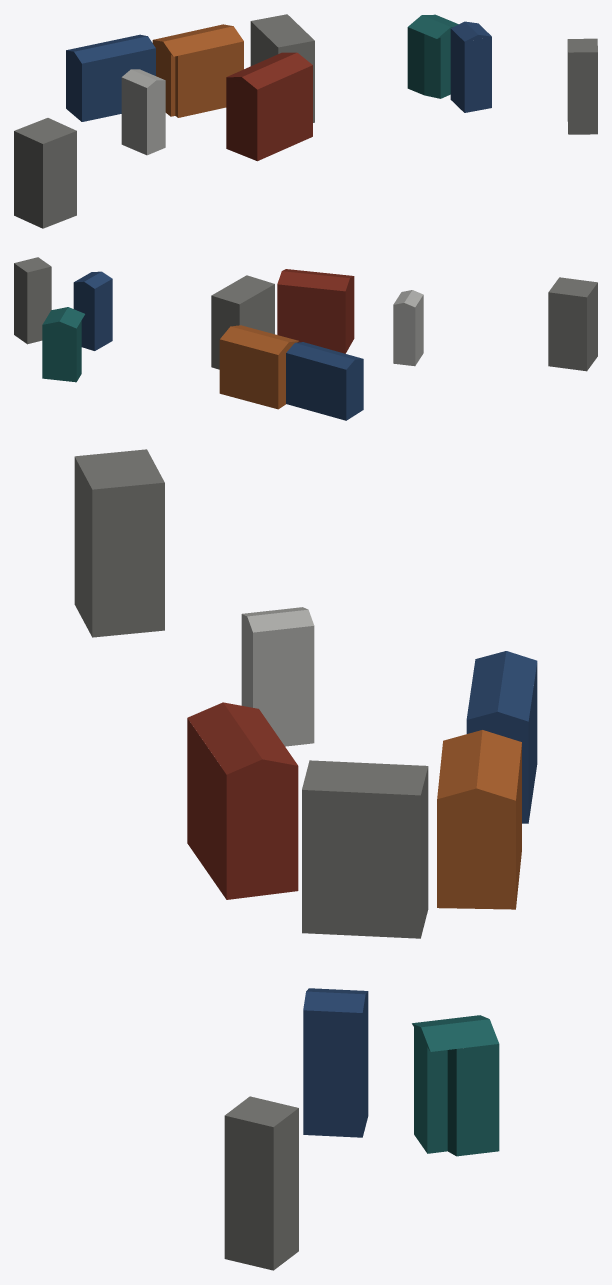
The model's file is near-15-27356-14859.a015660a.glb.
The picture shows the model from 3 angles, top to bottom: view 1: azimuth 30°, elevation 25°; view 2: azimuth 150°, elevation 25°; view 3: azimuth 270°, elevation 25°; orthographic projection. The views are drawn at different scales.
Size of the model in its own units: 184 by 47.44 by 67.95.
